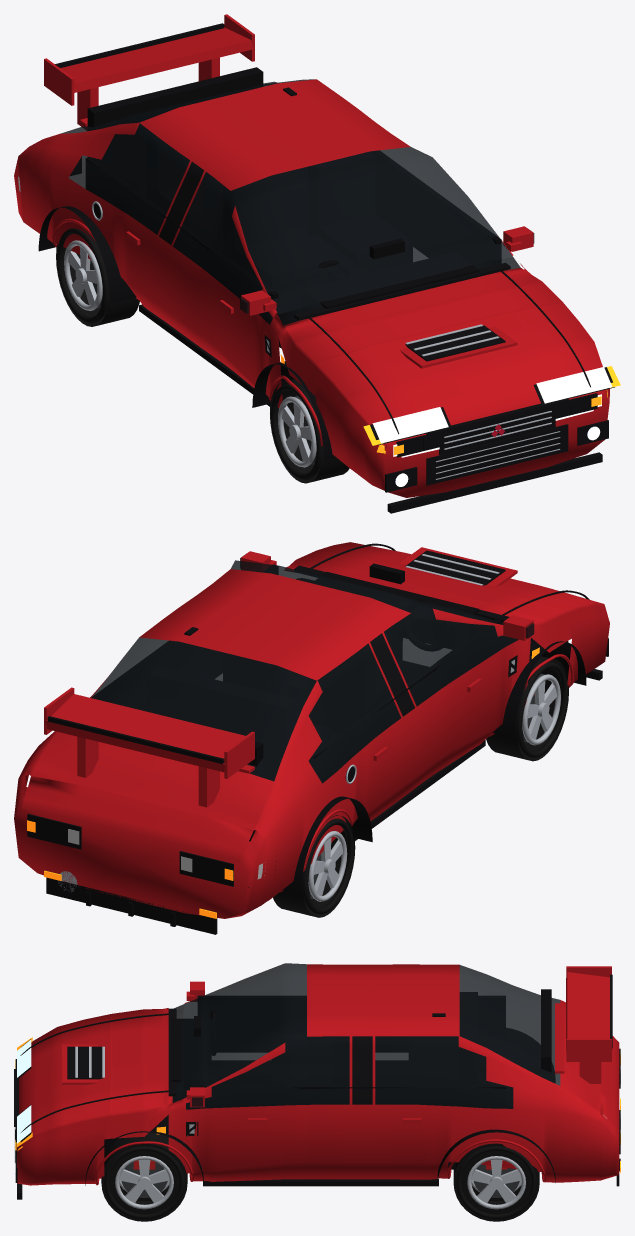
File: mitsubishi-lancer-evo9.glb
3 renders of one model, top to bottom at view 1: azimuth 30°, elevation 25°; view 2: azimuth 150°, elevation 25°; view 3: azimuth 270°, elevation 25°, orthographic. The views are drawn at different scales.
Parts seen in each view (by area): view 1: Body, BodyGlass, DoorPanelR, RearBulkhead, WingBlade, DoorPanelL, SeatBackR, Dashboard, SeatBackL, SeatL, RearSeat, Intercooler (+26 smaller); view 2: Body, BodyGlass, RearSeatBack, WingBlade, DoorPanelL, SeatBackL, Dashboard, DoorPanelR, RearDiffuser, WheelWellLinerFL, SeatBackR, Wheel_FL_Tread (+18 smaller); view 3: Body, BodyGlass, DoorPanelL, DoorPanelR, WingBlade, Dashboard, RearSeat, Wheel_FR_SidewallR, Wheel_RR_SidewallR, RockerLipR, SeatL, RearSeatBack (+27 smaller).
Boxes of the visible parts, x1,y1,x2,y2 form: Body: (14,79,609,497); BodyGlass: (60,79,520,325); DoorPanelR: (371,151,501,268); RearBulkhead: (87,67,263,188); WingBlade: (60,27,253,93); DoorPanelL: (85,157,278,323); SeatBackR: (308,152,374,235); Dashboard: (303,253,479,311); SeatBackL: (223,173,290,257); SeatL: (232,235,327,313); RearSeat: (158,167,306,247); Intercooler: (434,428,561,482); Body: (14,542,609,918); BodyGlass: (91,560,518,783); RearSeatBack: (147,666,298,779); WingBlade: (45,694,245,772); DoorPanelL: (309,619,501,782); SeatBackL: (308,644,374,733); Dashboard: (313,572,479,649); DoorPanelR: (92,564,277,710); RearDiffuser: (46,877,217,934); WheelWellLinerFL: (480,625,586,738); SeatBackR: (223,653,290,696); Wheel_FL_Tread: (486,656,568,761); Body: (17,964,619,1185); BodyGlass: (172,963,560,1109); DoorPanelL: (197,995,505,1051); DoorPanelR: (197,1085,505,1108); WingBlade: (566,972,612,1050); Dashboard: (171,1018,210,1098); RearSeat: (409,1037,458,1084); Wheel_FR_SidewallR: (101,1144,187,1221); Wheel_RR_SidewallR: (453,1143,539,1221); RockerLipR: (203,1179,438,1186); SeatL: (272,1034,332,1062); RearSeatBack: (459,992,477,1084).
Size of the model in its own units: 2.04 by 1.46 by 4.52.
